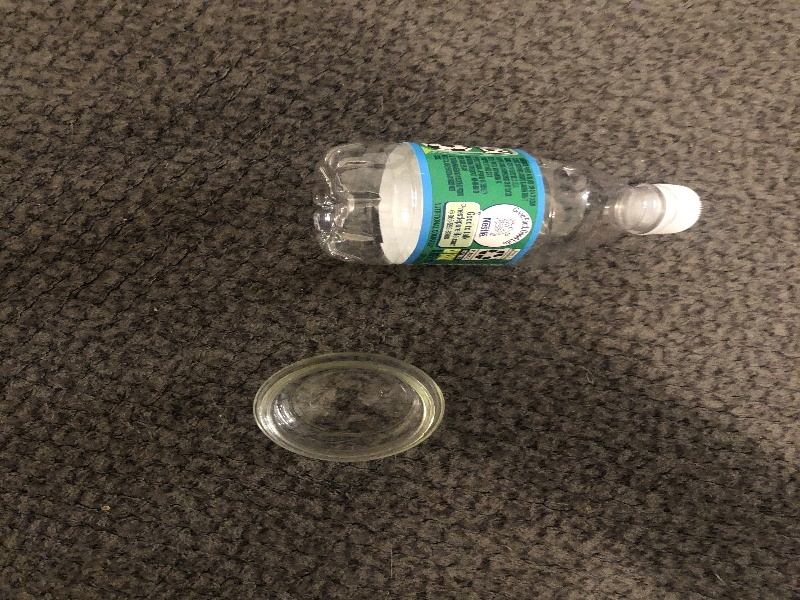glass: (242, 351, 450, 462)
plastic: (311, 133, 704, 272)
